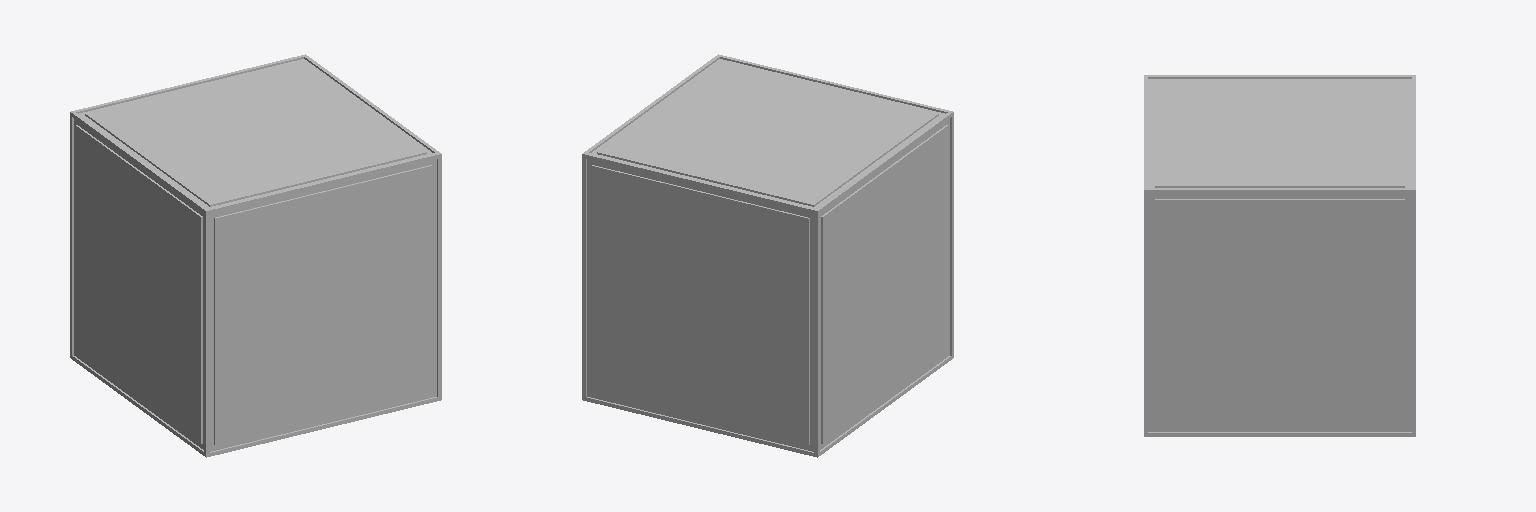
The model's file is Block.obj.
3 renders of one model, left to right at view 1: azimuth 30°, elevation 25°; view 2: azimuth 150°, elevation 25°; view 3: azimuth 270°, elevation 25°, orthographic.
Parts seen in each view (by area): view 1: object 1; view 2: object 1; view 3: object 1.
Part boxes in pixels (left/top/right/bottom): object 1: left=70, top=54, right=441, bottom=457; object 1: left=582, top=54, right=953, bottom=457; object 1: left=1144, top=75, right=1415, bottom=436.
Size of the model in its own units: 12.8 by 12.8 by 12.8.